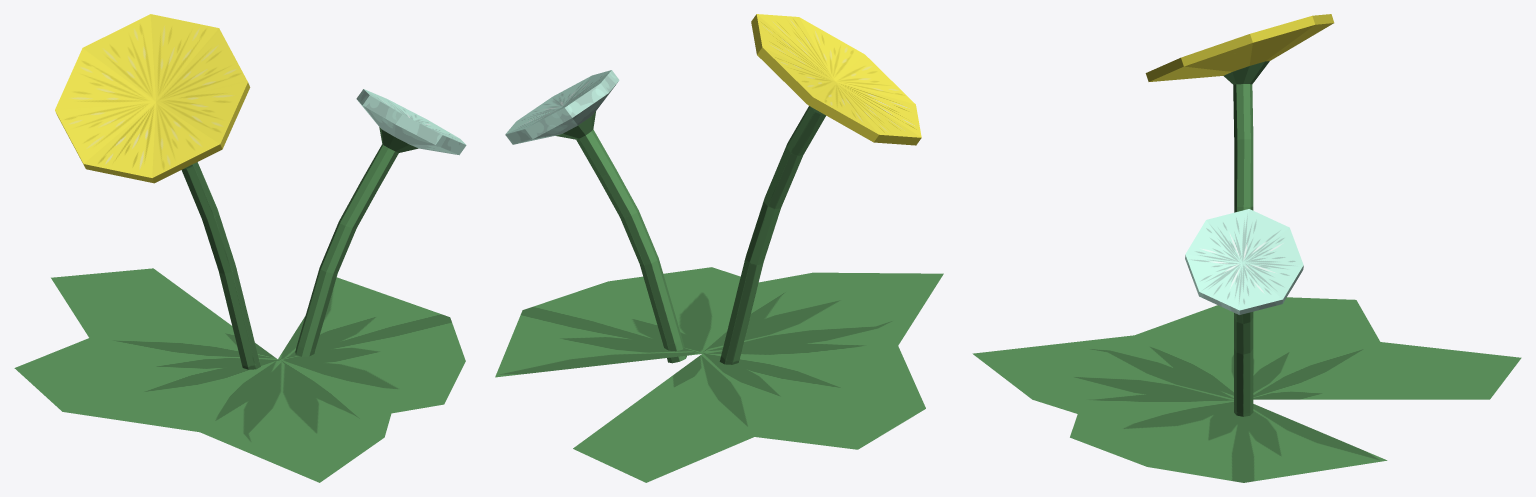
File: object8_flower1.fbx
3 views of the same model, side by side, from view 1: azimuth 30°, elevation 25°; view 2: azimuth 150°, elevation 25°; view 3: azimuth 270°, elevation 25° (orthographic). The views are drawn at different scales.
Visible parts, largest first — view 1: Cylinder, Cylinder.001, Cylinder.002; view 2: Cylinder, Cylinder.001, Cylinder.002; view 3: Cylinder, Cylinder.002, Cylinder.001.
Boxes of the visible parts, x1,y1,x2,y2 form: Cylinder: [14, 268, 465, 482]; Cylinder.001: [55, 14, 260, 369]; Cylinder.002: [295, 89, 466, 356]; Cylinder: [495, 267, 943, 482]; Cylinder.001: [719, 14, 921, 364]; Cylinder.002: [505, 70, 686, 363]; Cylinder: [972, 297, 1521, 482]; Cylinder.002: [1185, 209, 1303, 416]; Cylinder.001: [1145, 14, 1334, 212].
Size of the model in its own units: 261 by 226 by 318.
